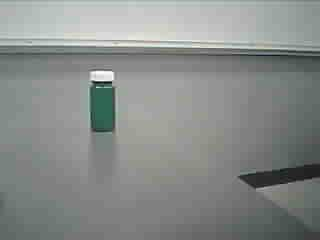Bottle C: (83, 68, 122, 137)
